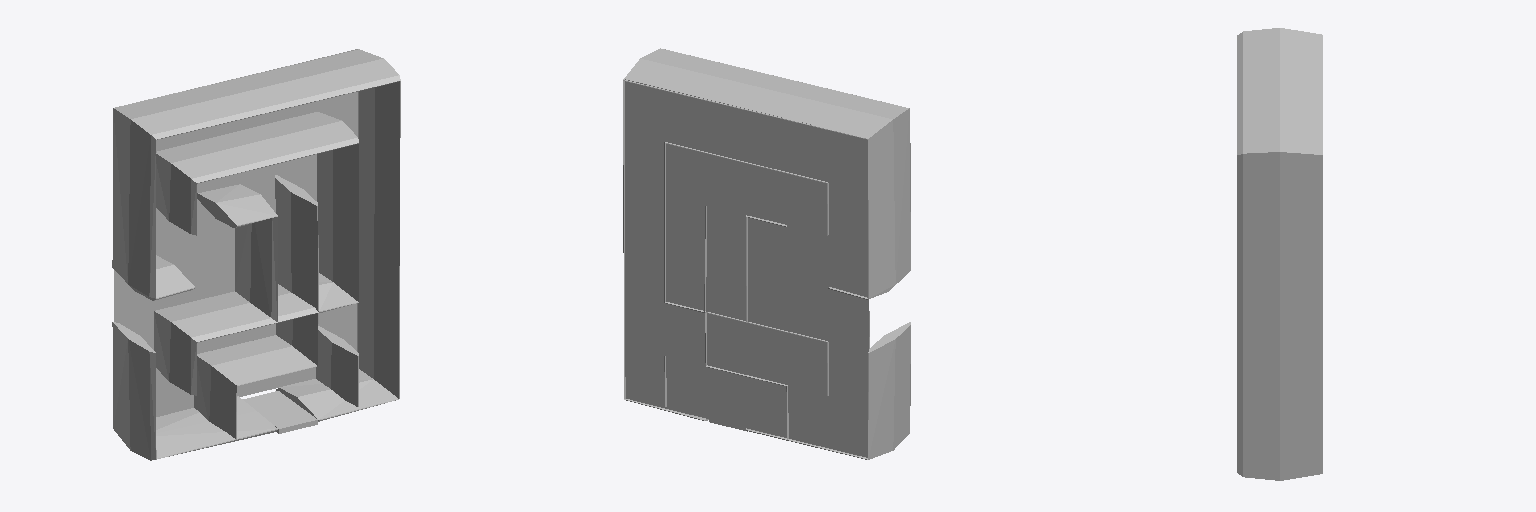
Rendered from Mazek.obj.
The picture shows the model from 3 angles: view 1: azimuth 30°, elevation 25°; view 2: azimuth 150°, elevation 25°; view 3: azimuth 270°, elevation 25°; orthographic projection.
Visible parts, largest first — view 1: Maze; view 2: Maze; view 3: Maze.
Part boxes in pixels (x1,y1,x2,y2): Maze: (112,49,400,460); Maze: (623,48,910,459); Maze: (1237,28,1322,480).
Bounding box in the file's own units: 11.52 × 14.41 × 3.34.